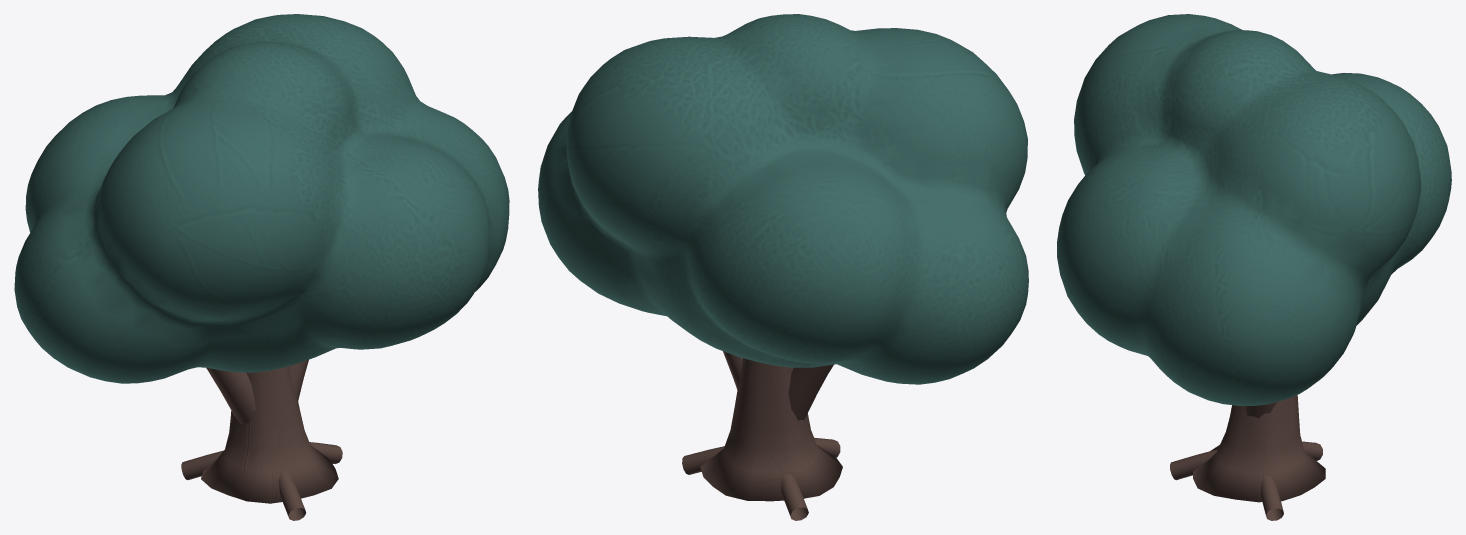
3 views of the same model, side by side, from view 1: azimuth 30°, elevation 25°; view 2: azimuth 150°, elevation 25°; view 3: azimuth 270°, elevation 25° (orthographic). The views are drawn at different scales.
Visible parts, largest first — view 1: Canopy, Trunk; view 2: Canopy, Trunk; view 3: Canopy, Trunk.
Boxes of the visible parts, x1=… form: Canopy: x1=14, y1=14, x2=509, y2=383; Trunk: x1=181, y1=359, x2=342, y2=520; Canopy: x1=538, y1=14, x2=1028, y2=384; Trunk: x1=682, y1=351, x2=842, y2=520; Canopy: x1=1057, y1=14, x2=1451, y2=405; Trunk: x1=1170, y1=395, x2=1325, y2=520.
Bounding box in the file's own units: 3.63 × 3.37 × 2.75.
Materials: 2 (2 with a texture image).
